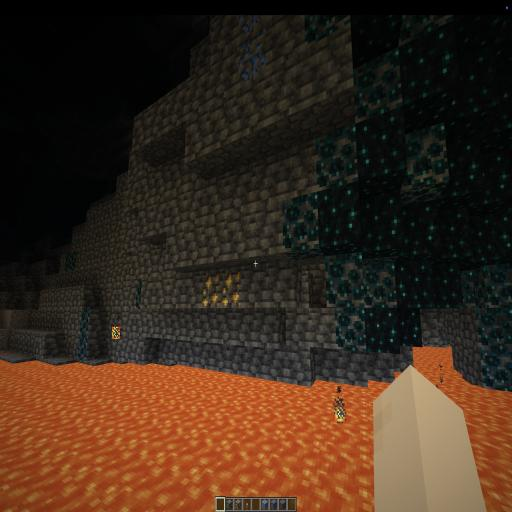gold ore: (200, 272, 246, 312)
lapis ore: (233, 2, 277, 86)
